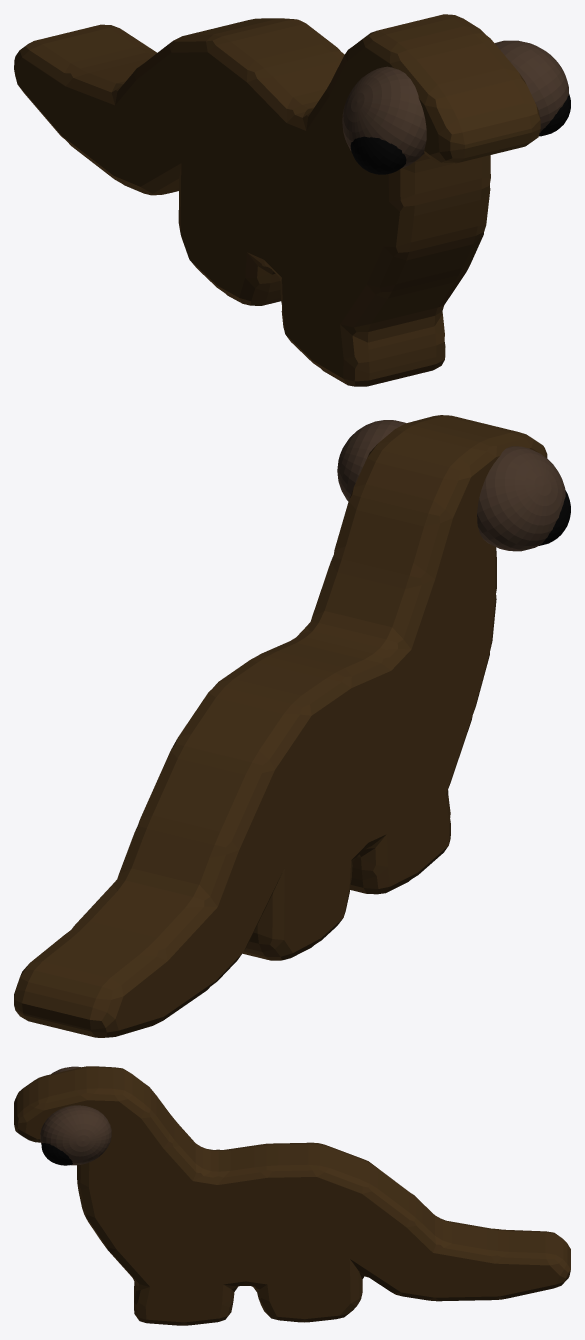
File: dino_nuggie_V3.glb
The picture shows the model from 3 angles, top to bottom: view 1: azimuth 30°, elevation 25°; view 2: azimuth 150°, elevation 25°; view 3: azimuth 270°, elevation 25°; orthographic projection. The views are drawn at different scales.
Visible parts, largest first — view 1: Plane, Sphere.002, Sphere.001, Sphere.003, Sphere.004; view 2: Plane, Sphere.002, Sphere.001; view 3: Plane, Sphere.001, Sphere.004.
Boxes of the visible parts, <box> form: Plane: <box>14,14,540,386</box>; Sphere.002: <box>342,66,426,168</box>; Sphere.001: <box>494,40,568,132</box>; Sphere.003: <box>350,136,406,174</box>; Sphere.004: <box>539,94,570,136</box>; Plane: <box>14,415,547,1037</box>; Sphere.002: <box>477,446,565,551</box>; Sphere.001: <box>337,420,405,501</box>; Plane: <box>14,1066,570,1325</box>; Sphere.001: <box>40,1105,111,1165</box>; Sphere.004: <box>41,1143,72,1165</box>.
Size of the model in its own units: 0.4406 by 0.7519 by 1.61.
